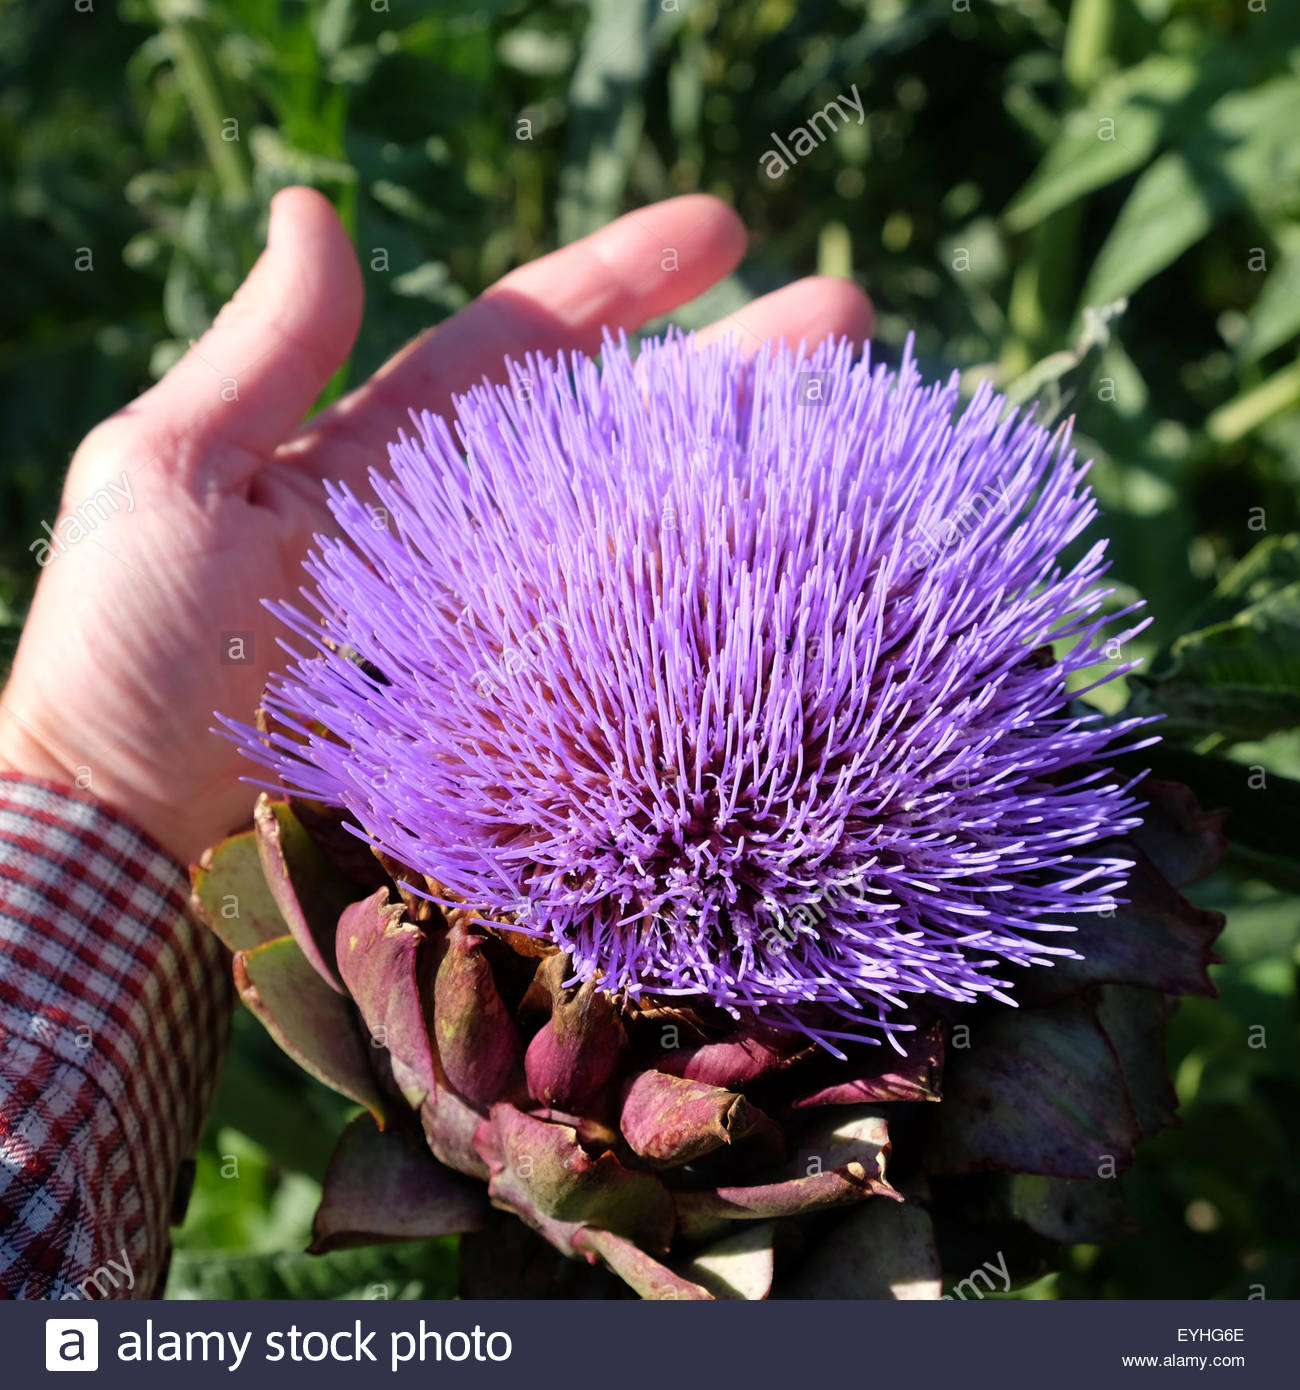thistle: (242, 327, 1218, 1287)
